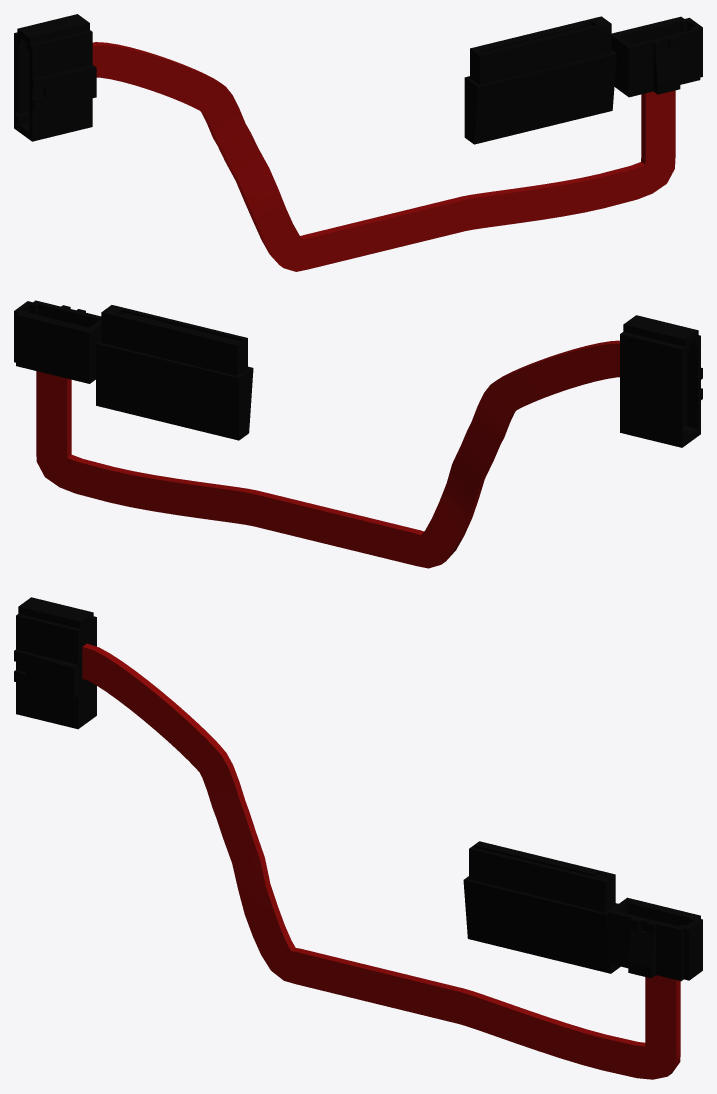
Rendered from Provod ssd.fbx.
3 renders of one model, top to bottom at view 1: azimuth 30°, elevation 25°; view 2: azimuth 150°, elevation 25°; view 3: azimuth 330°, elevation 25°, orthographic. The views are drawn at different scales.
Parts seen in each view (by area): view 1: Provod ssd.001, Provod ssd; view 2: Provod ssd.001, Provod ssd; view 3: Provod ssd.001, Provod ssd.
Part boxes in pixels (left/top/right/bottom): Provod ssd.001: left=14, top=14, right=702, bottom=271; Provod ssd: left=464, top=16, right=616, bottom=144; Provod ssd.001: left=14, top=300, right=702, bottom=568; Provod ssd: left=96, top=305, right=253, bottom=440; Provod ssd.001: left=14, top=597, right=702, bottom=1079; Provod ssd: left=463, top=841, right=620, bottom=973.
Bounding box in the file's own units: 0.1148 × 0.0508 × 0.0105.
